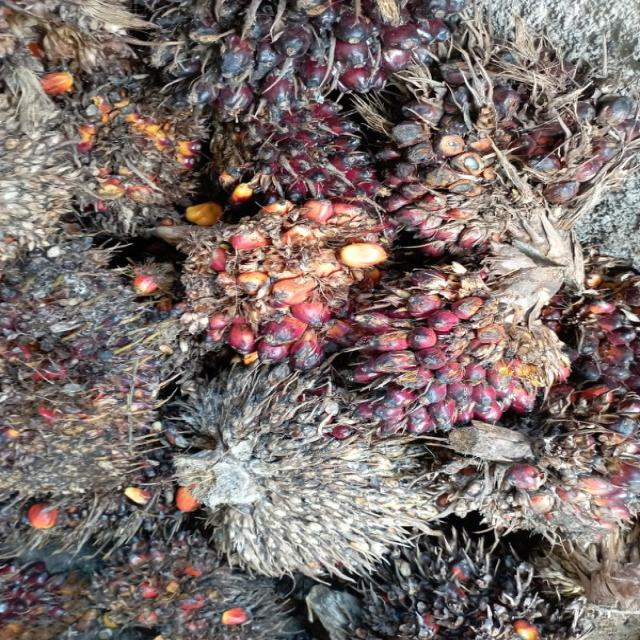fraksi 1: (142, 154, 431, 396), (332, 237, 608, 460)
